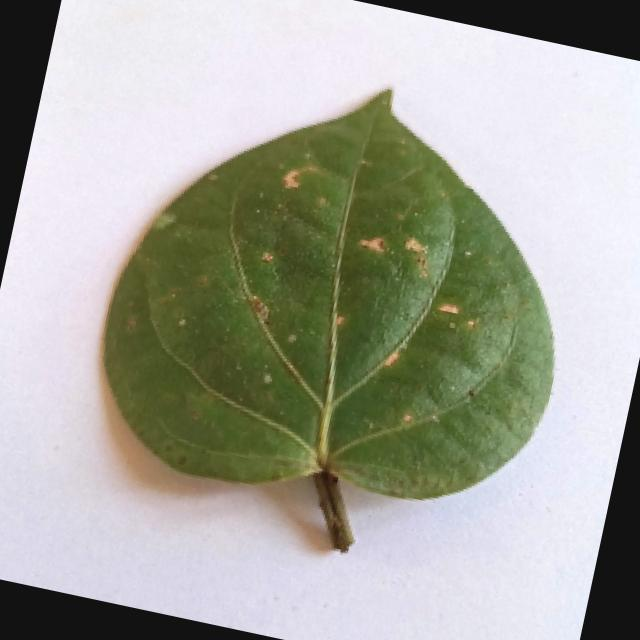pollu-disease: (56, 39, 610, 586)
